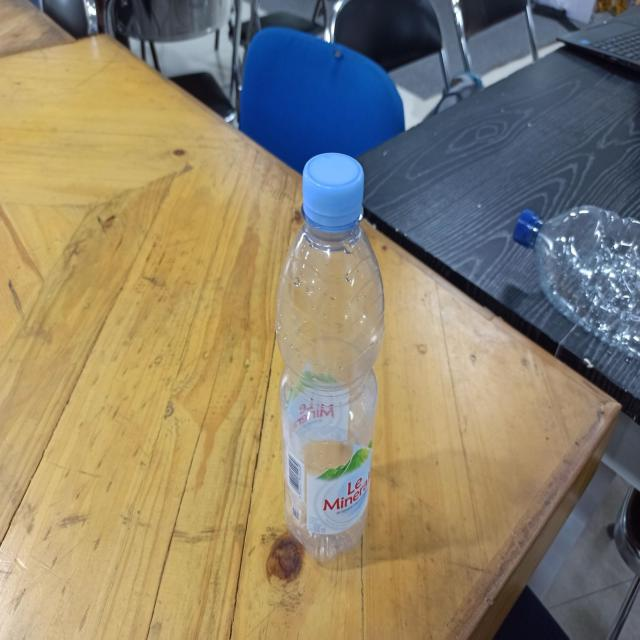BotolPlastik: (274, 151, 386, 563)
